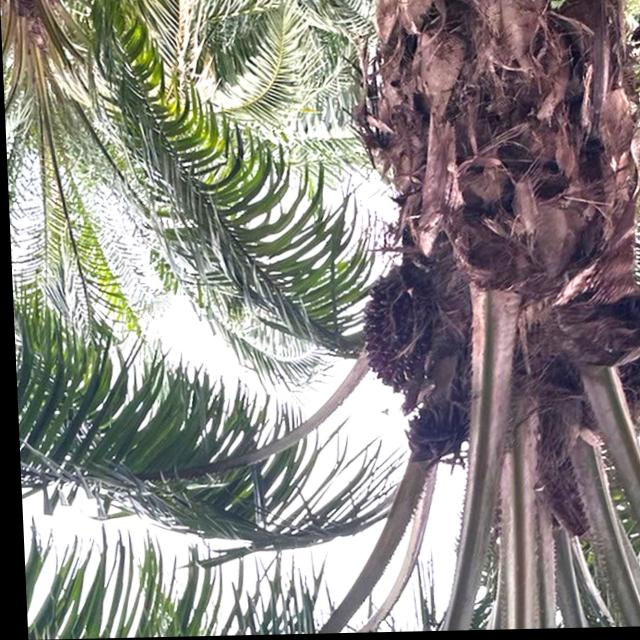ripe: (349, 271, 428, 409)
